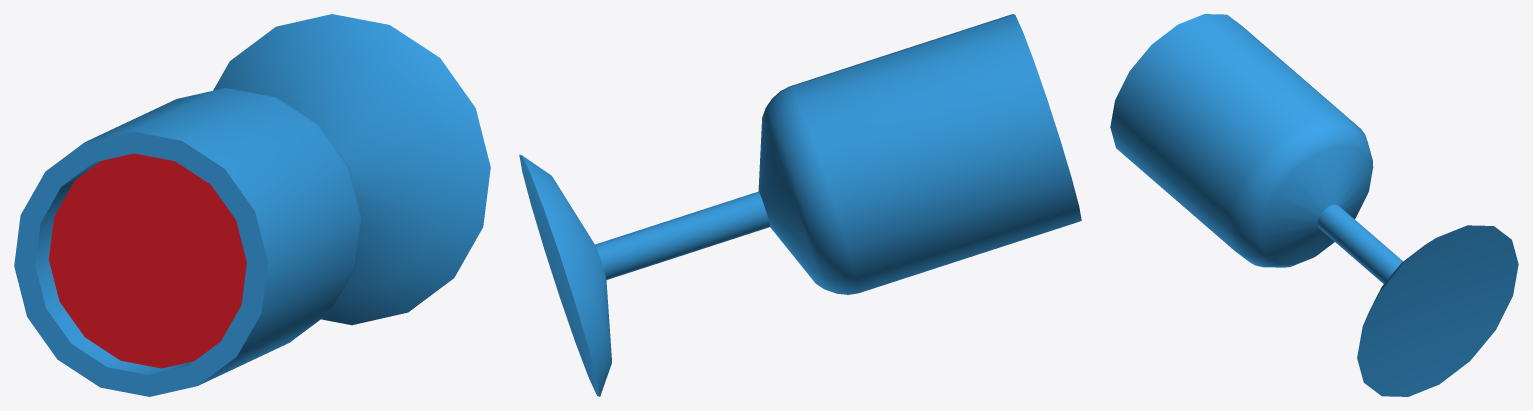
Rendered from Glass_Wine.fbx.
The picture shows the model from 3 angles, left to right: view 1: azimuth 30°, elevation 25°; view 2: azimuth 150°, elevation 25°; view 3: azimuth 270°, elevation 25°; orthographic projection. The views are drawn at different scales.
Visible parts, largest first — view 1: Wine_Glass_1; view 2: Wine_Glass_1; view 3: Wine_Glass_1.
Boxes of the visible parts, box(x1,y1,x2,y2) form: Wine_Glass_1: box(14, 14, 490, 396); Wine_Glass_1: box(519, 14, 1081, 396); Wine_Glass_1: box(1110, 14, 1518, 396).
Bounding box in the file's own units: 18.86 × 12.66 × 17.84.
